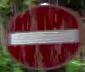No entry: (6, 3, 84, 71)
